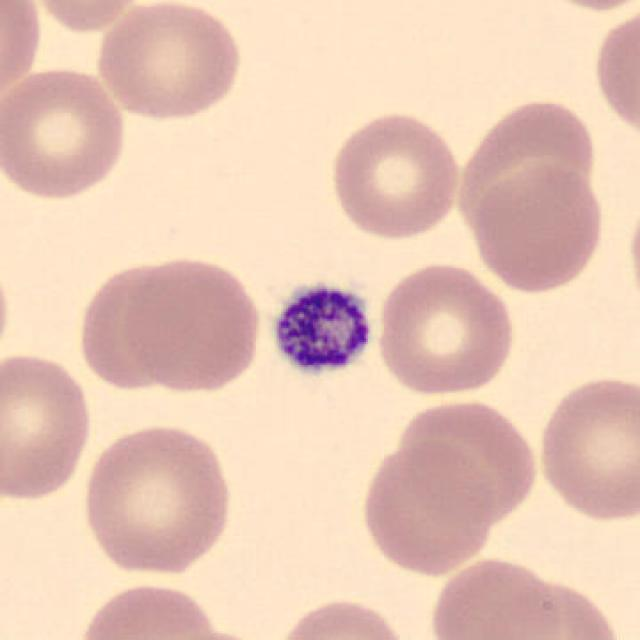Platelets: (265, 276, 379, 382)
RBC: (78, 420, 236, 578), (451, 93, 601, 240), (117, 252, 265, 397), (373, 258, 519, 400), (356, 438, 500, 578), (395, 393, 542, 527), (325, 106, 466, 243), (90, 0, 247, 123), (466, 160, 608, 294), (0, 61, 132, 202), (534, 368, 638, 526), (0, 347, 96, 506), (71, 256, 180, 395), (426, 553, 567, 640), (73, 578, 226, 640), (489, 573, 629, 640), (268, 592, 414, 640), (590, 1, 638, 144), (0, 0, 46, 104), (26, 0, 151, 35), (135, 627, 288, 640), (626, 185, 640, 321), (521, 0, 640, 16), (0, 248, 14, 376)
